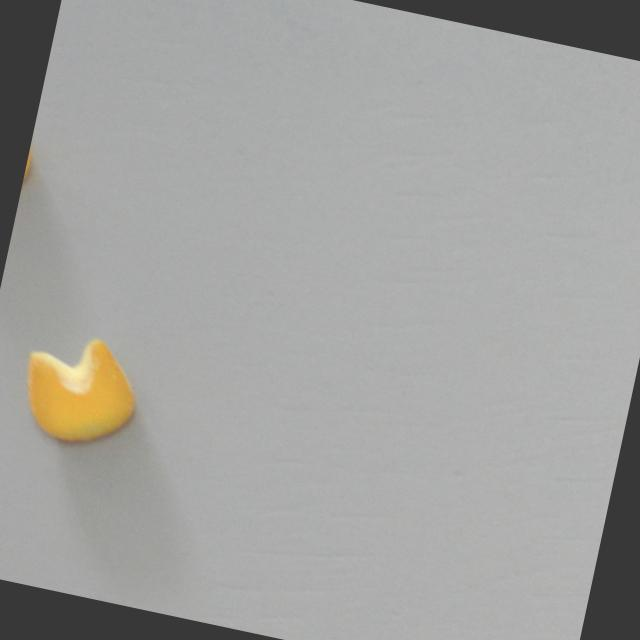no_desgerminado: (11, 324, 151, 459)
